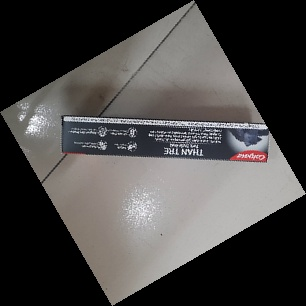Colgate Than: (59, 113, 272, 165)
